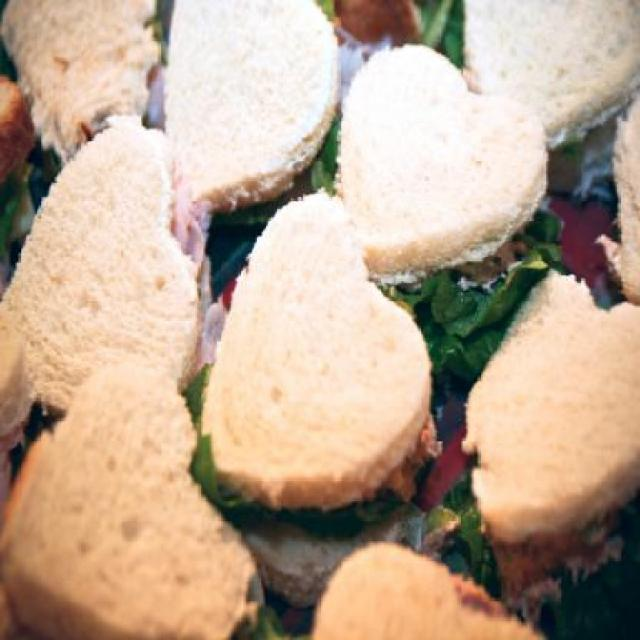Sandwich: (0, 0, 638, 638)
